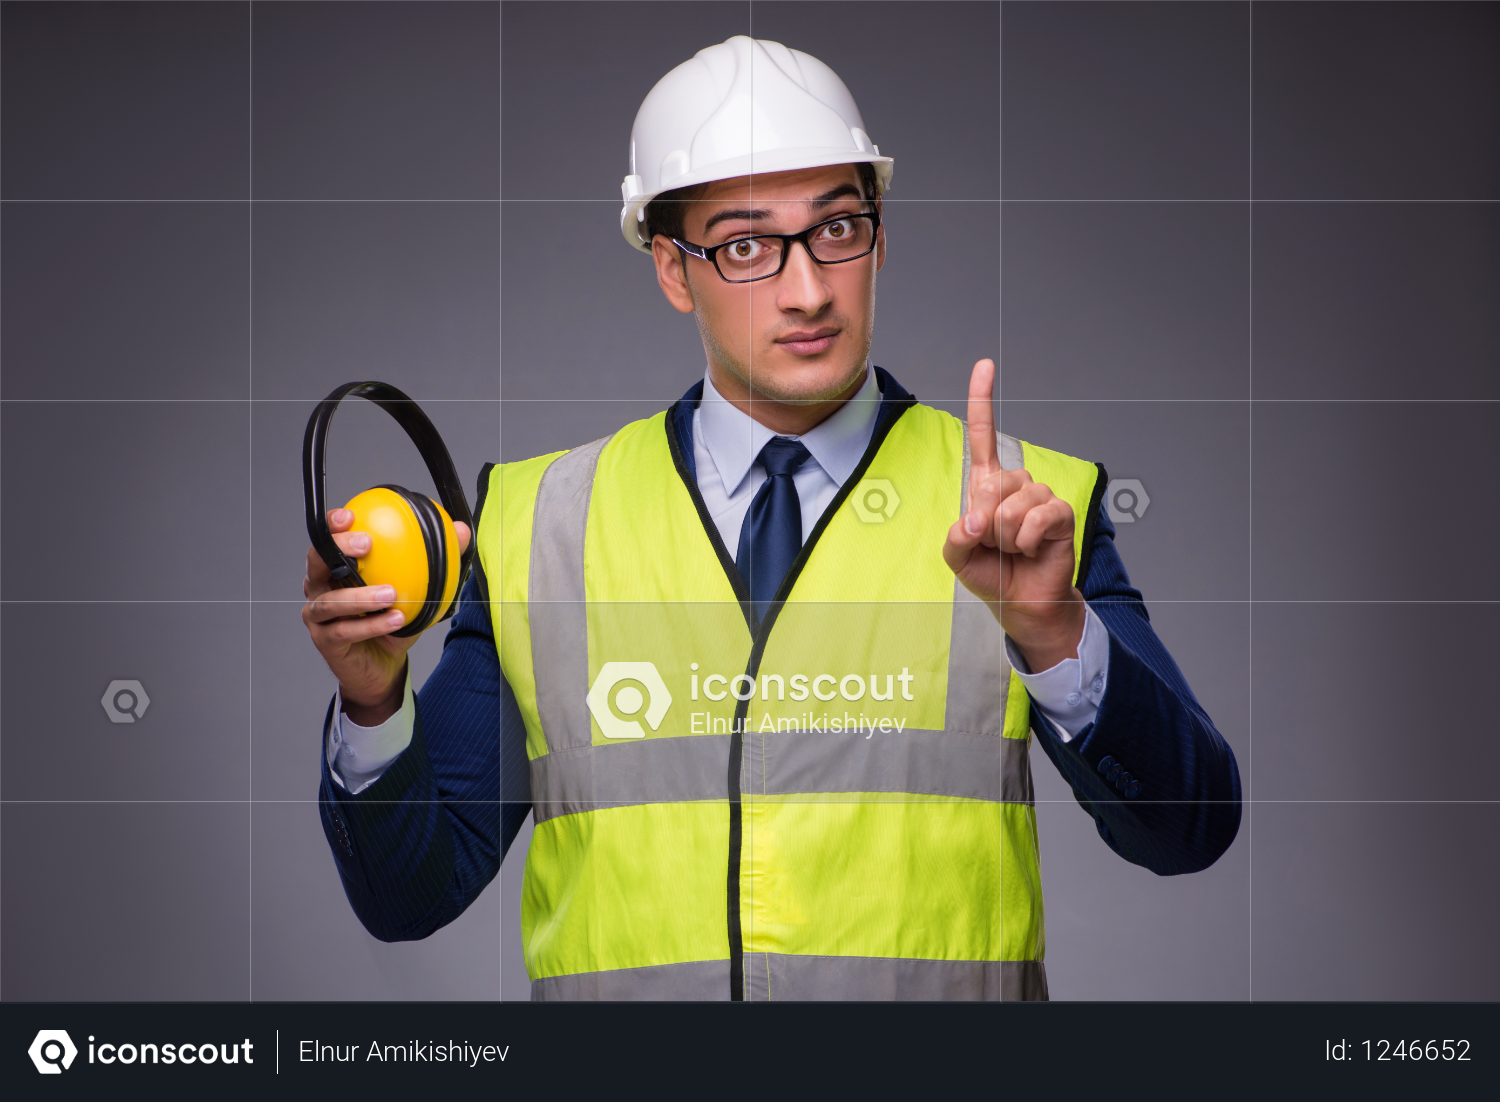Person_wearing_helmet: (598, 7, 915, 307)
